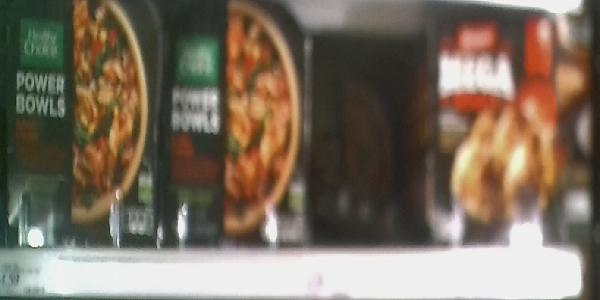pizza1: (3, 1, 160, 248), (161, 1, 308, 247), (435, 11, 565, 245)
